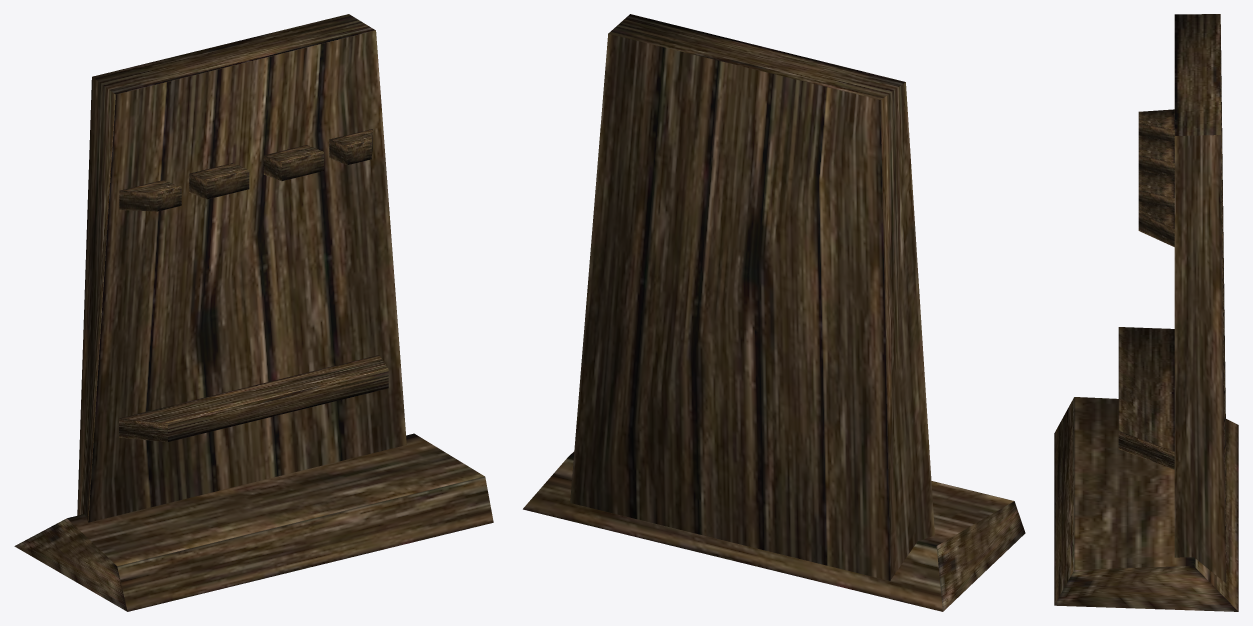
File: OC_WEAPON_SHELF_EMPTY_V2.glb
3 views of the same model, side by side, from view 1: azimuth 30°, elevation 25°; view 2: azimuth 150°, elevation 25°; view 3: azimuth 270°, elevation 25° (orthographic). The views are drawn at different scales.
Parts seen in each view (by area): view 1: Mesh; view 2: Mesh; view 3: Mesh.
Boxes of the visible parts, bbox=[...] form: Mesh: bbox=[14, 14, 493, 611]; Mesh: bbox=[523, 14, 1025, 611]; Mesh: bbox=[1054, 14, 1238, 611].
Size of the model in its own units: 1.09 by 1.2 by 0.4541.
1 material, 1 textured.
